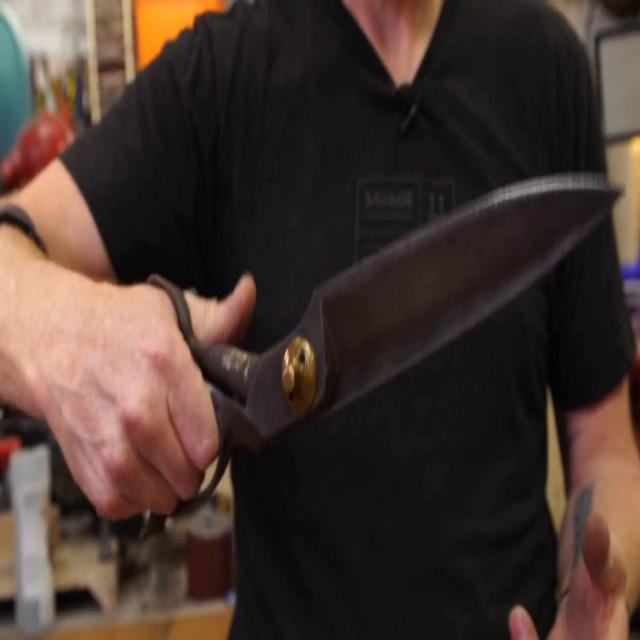scissor: (141, 180, 624, 540)
